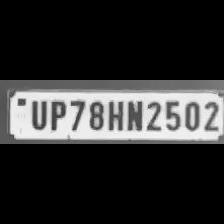0: (182, 98, 200, 130)
2: (201, 98, 221, 132), (144, 98, 162, 132)
5: (162, 97, 180, 131)
7: (65, 97, 85, 131)
8: (85, 98, 105, 132)
H: (105, 97, 124, 131)
N: (124, 97, 142, 131)
P: (46, 97, 66, 131)
U: (26, 97, 48, 130)
